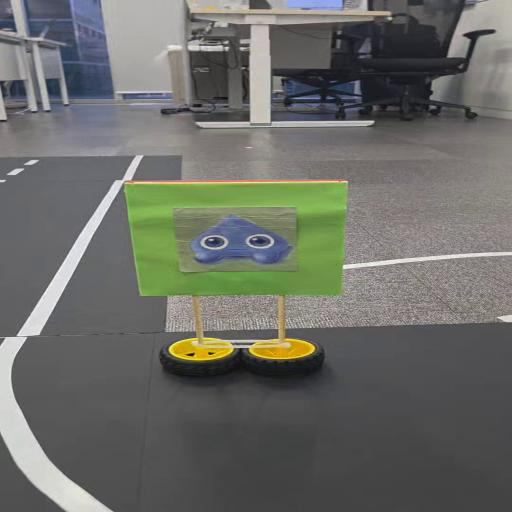Sign_B: (115, 173, 356, 384)
